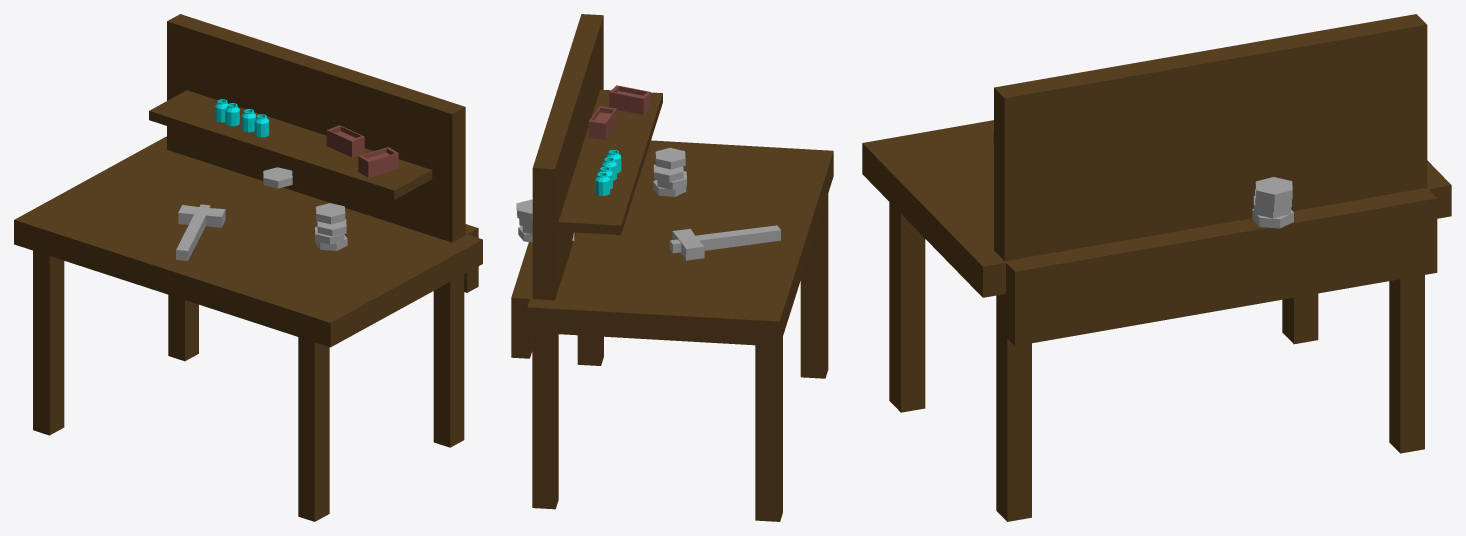
The model's file is TalismanTable.fbx.
The picture shows the model from 3 angles, left to right: view 1: azimuth 30°, elevation 25°; view 2: azimuth 150°, elevation 25°; view 3: azimuth 270°, elevation 25°; orthographic projection. The views are drawn at different scales.
Visible parts, largest first — view 1: TalismanTable; view 2: TalismanTable; view 3: TalismanTable.
Part boxes in pixels (<box>): TalismanTable: <box>14,14,482,521</box>; TalismanTable: <box>511,14,833,521</box>; TalismanTable: <box>862,14,1451,521</box>.
Size of the model in its own units: 4.56 by 4.28 by 5.39.
